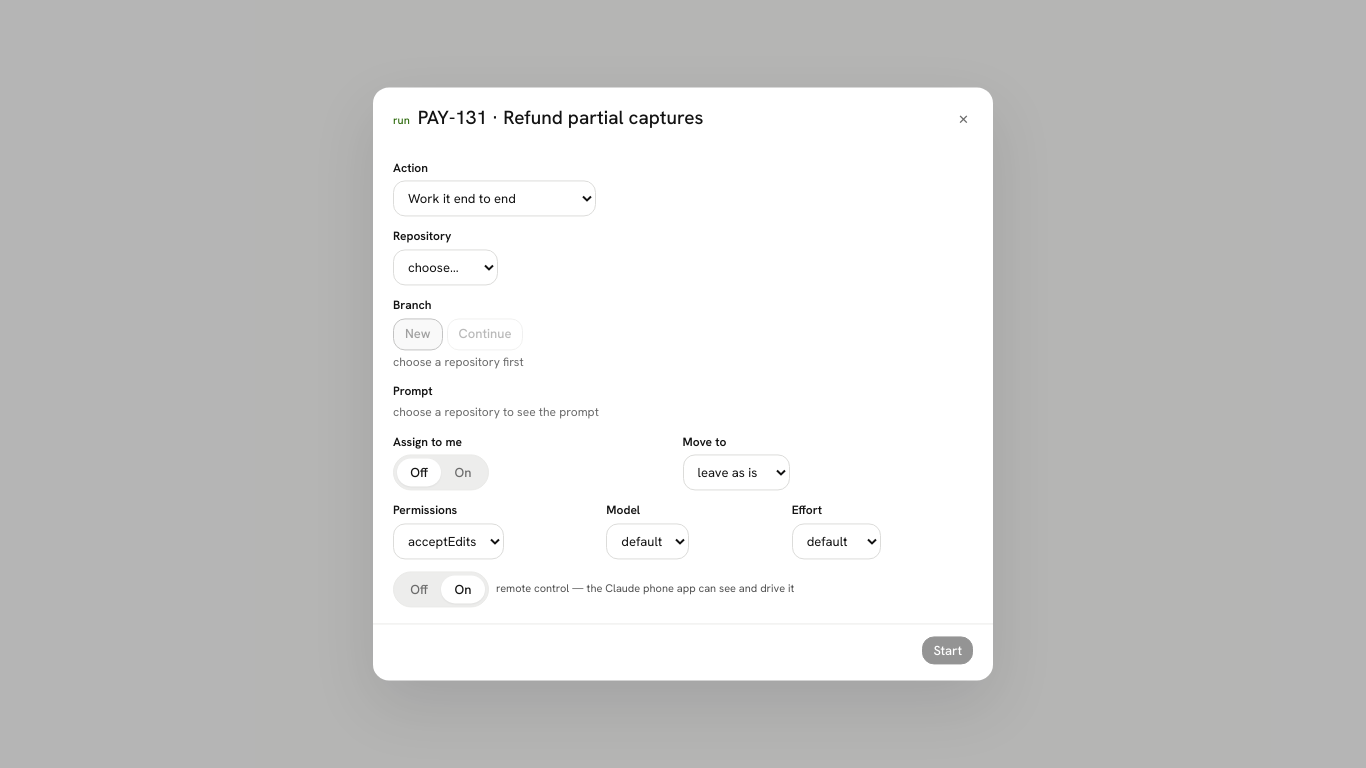
Test case: JiraLaunchSheet — the repository › offers a select for two paths and previews nothing until one is picked
The image size is (1366, 768).
Expected: the button "Start" is disabled, [922,637,973,665]
Select "~/pay-web" in the dropdown named "Repository" at (446, 268), box [393,250,498,286]
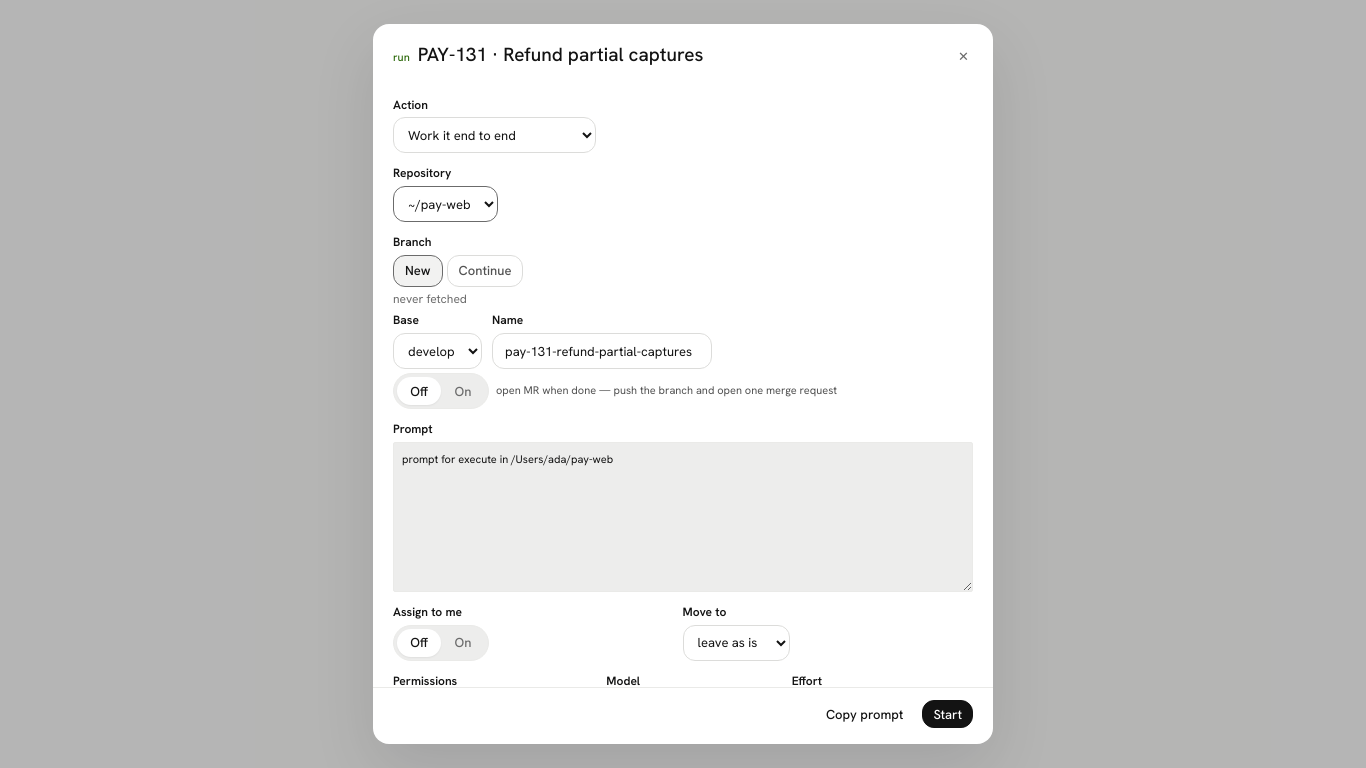
Expected: the button "Start" is enabled, [922,700,973,728]
